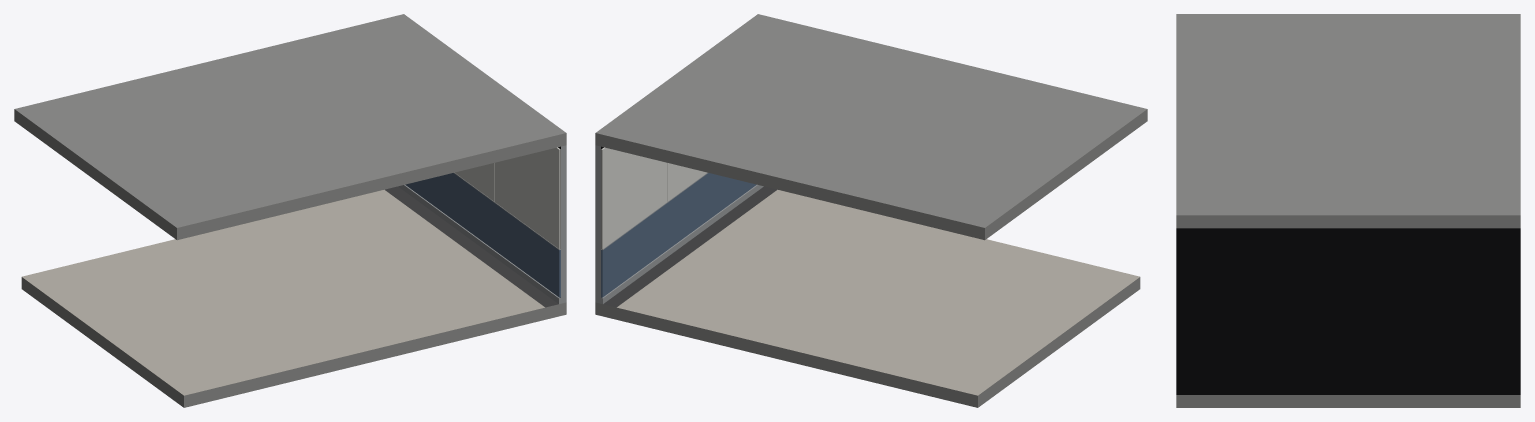
File: gteki_passage_straight_w8_l6_open.glb
The picture shows the model from 3 angles, left to right: view 1: azimuth 30°, elevation 25°; view 2: azimuth 150°, elevation 25°; view 3: azimuth 270°, elevation 25°; orthographic projection. The views are drawn at different scales.
Parts seen in each view (by area): view 1: VIS_body; view 2: VIS_body; view 3: VIS_body.
Part boxes in pixels (x1=…): VIS_body: x1=14, y1=14, x2=566, y2=407; VIS_body: x1=595, y1=14, x2=1147, y2=407; VIS_body: x1=1176, y1=14, x2=1520, y2=407.
Size of what is drawn, in the model's own units: 8.3 by 3.7 by 6.
Materials: 1 (1 with a texture image).
